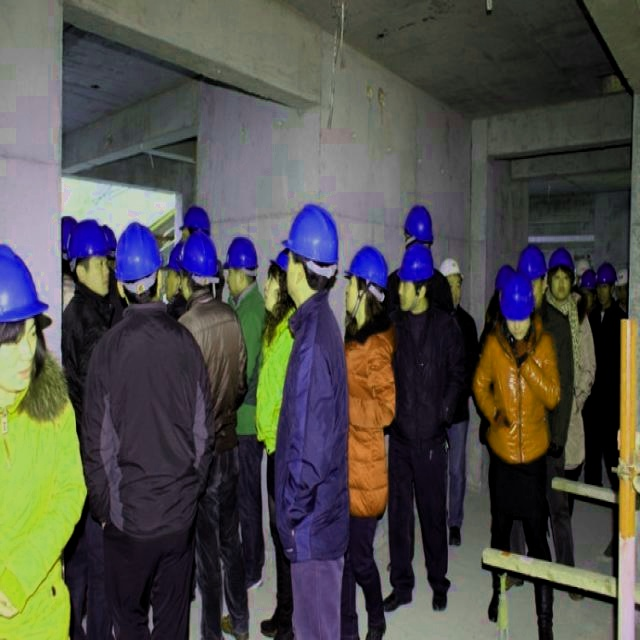Con_Casco: (285, 206, 339, 297), (114, 219, 162, 300), (343, 246, 386, 315), (398, 243, 434, 313), (404, 205, 432, 244)
